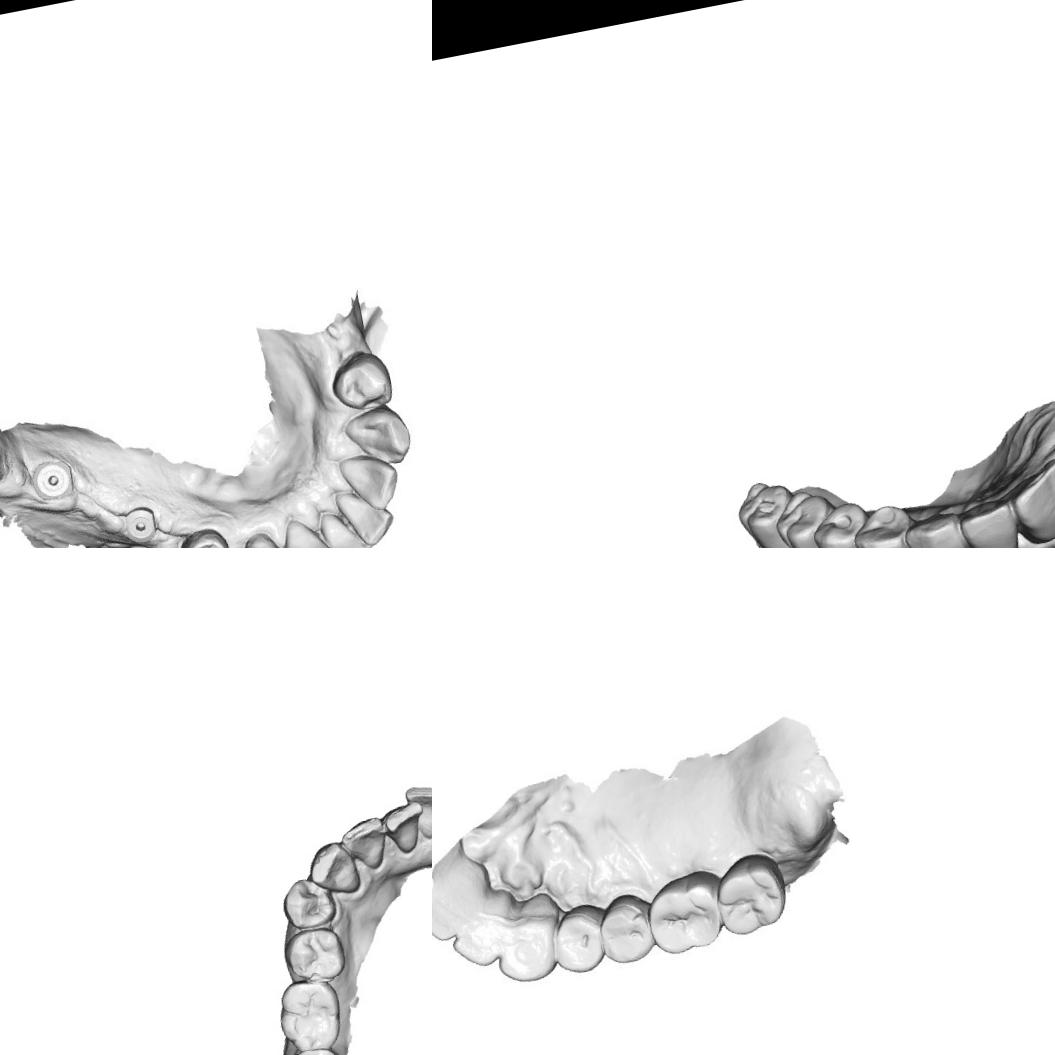canine: (490, 898, 564, 990), (340, 402, 416, 472), (302, 836, 364, 902), (899, 504, 978, 548), (229, 523, 294, 548)
implant: (28, 454, 78, 504), (119, 504, 162, 544)
incisor: (432, 855, 492, 951), (445, 897, 515, 972), (1003, 452, 1055, 548), (335, 481, 397, 548), (339, 447, 402, 510), (955, 493, 1022, 548), (337, 813, 392, 874), (380, 798, 430, 858), (319, 507, 373, 548), (283, 512, 341, 548), (401, 777, 432, 843)
molar: (707, 850, 790, 943), (642, 872, 727, 959), (269, 970, 349, 1055), (768, 479, 847, 548), (731, 474, 804, 548)
premolar: (278, 924, 352, 988), (848, 498, 931, 548), (598, 893, 655, 965), (328, 350, 394, 412), (276, 870, 339, 934), (550, 904, 607, 974), (806, 495, 879, 548), (175, 524, 238, 548)
